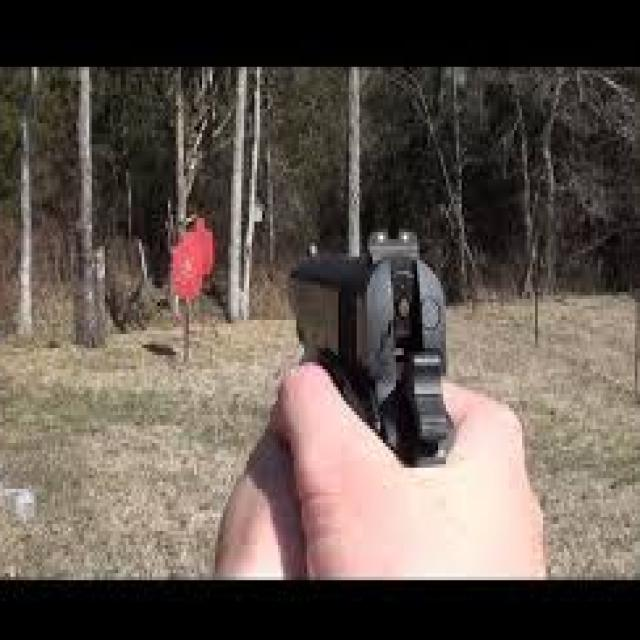gun: (274, 219, 464, 513)
